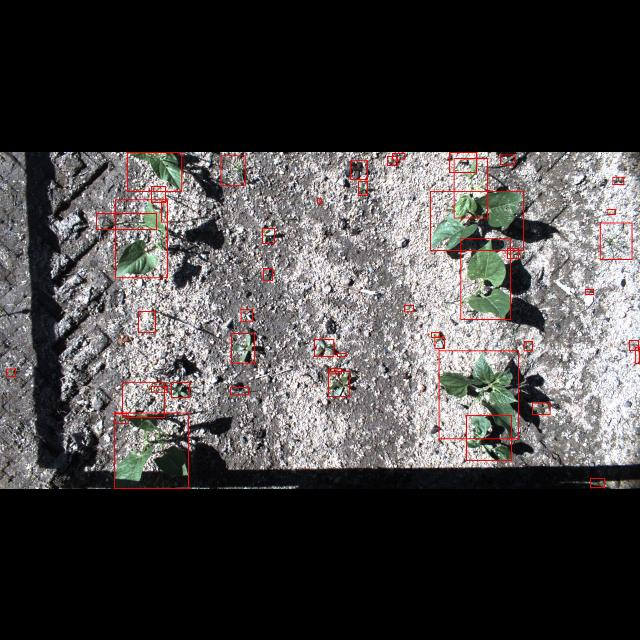crop: (439, 350, 519, 438), (430, 190, 524, 250), (114, 412, 188, 488), (115, 199, 167, 277), (461, 238, 511, 318), (126, 152, 182, 190), (454, 157, 488, 217), (466, 416, 512, 460)
weed: (123, 381, 165, 417), (600, 222, 632, 258), (96, 213, 156, 229), (221, 155, 245, 185), (232, 333, 254, 363), (449, 151, 476, 171), (328, 372, 350, 396), (138, 310, 156, 332), (314, 338, 334, 356), (350, 160, 368, 178), (171, 382, 189, 398), (151, 186, 165, 202), (532, 402, 550, 414), (263, 228, 275, 242), (241, 308, 253, 322), (500, 154, 516, 164), (231, 387, 249, 395), (114, 413, 128, 423), (358, 180, 368, 194), (590, 478, 604, 488), (161, 200, 167, 222), (434, 337, 444, 348), (634, 346, 640, 364), (387, 155, 397, 165), (508, 248, 518, 258), (151, 386, 167, 392), (264, 268, 272, 280), (393, 152, 405, 160), (612, 176, 624, 184), (524, 340, 532, 350), (630, 340, 638, 350), (7, 368, 16, 376), (329, 368, 341, 374), (404, 305, 414, 311), (608, 208, 616, 214), (586, 288, 594, 294), (338, 352, 347, 356), (431, 332, 439, 336), (317, 197, 321, 203)
